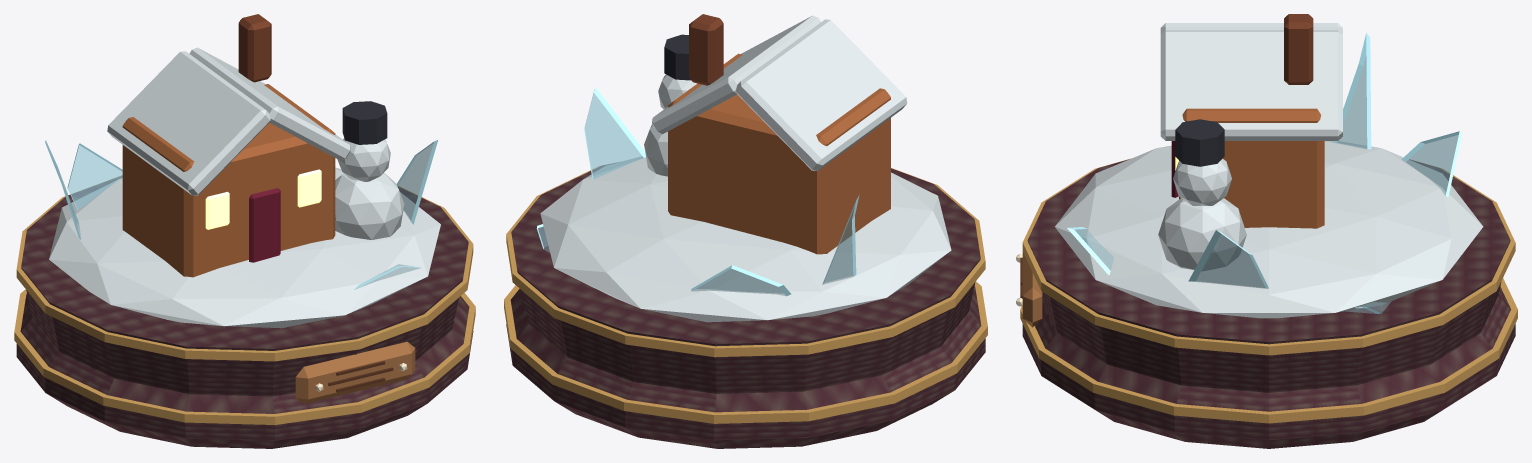
Rendered from snow_globe_village_broken_base.glb.
3 views of the same model, side by side, from view 1: azimuth 30°, elevation 25°; view 2: azimuth 150°, elevation 25°; view 3: azimuth 270°, elevation 25° (orthographic). The views are drawn at different scales.
Parts seen in each view (by area): view 1: Amber window.004; view 2: Amber window.004; view 3: Amber window.004.
Boxes of the visible parts, bbox=[...] form: Amber window.004: bbox=[14, 14, 475, 448]; Amber window.004: bbox=[504, 14, 987, 448]; Amber window.004: bbox=[1016, 14, 1517, 448].
Bounding box in the file's own units: 0.202 × 0.157 × 0.2037.
Materials: 13 (1 with a texture image).
